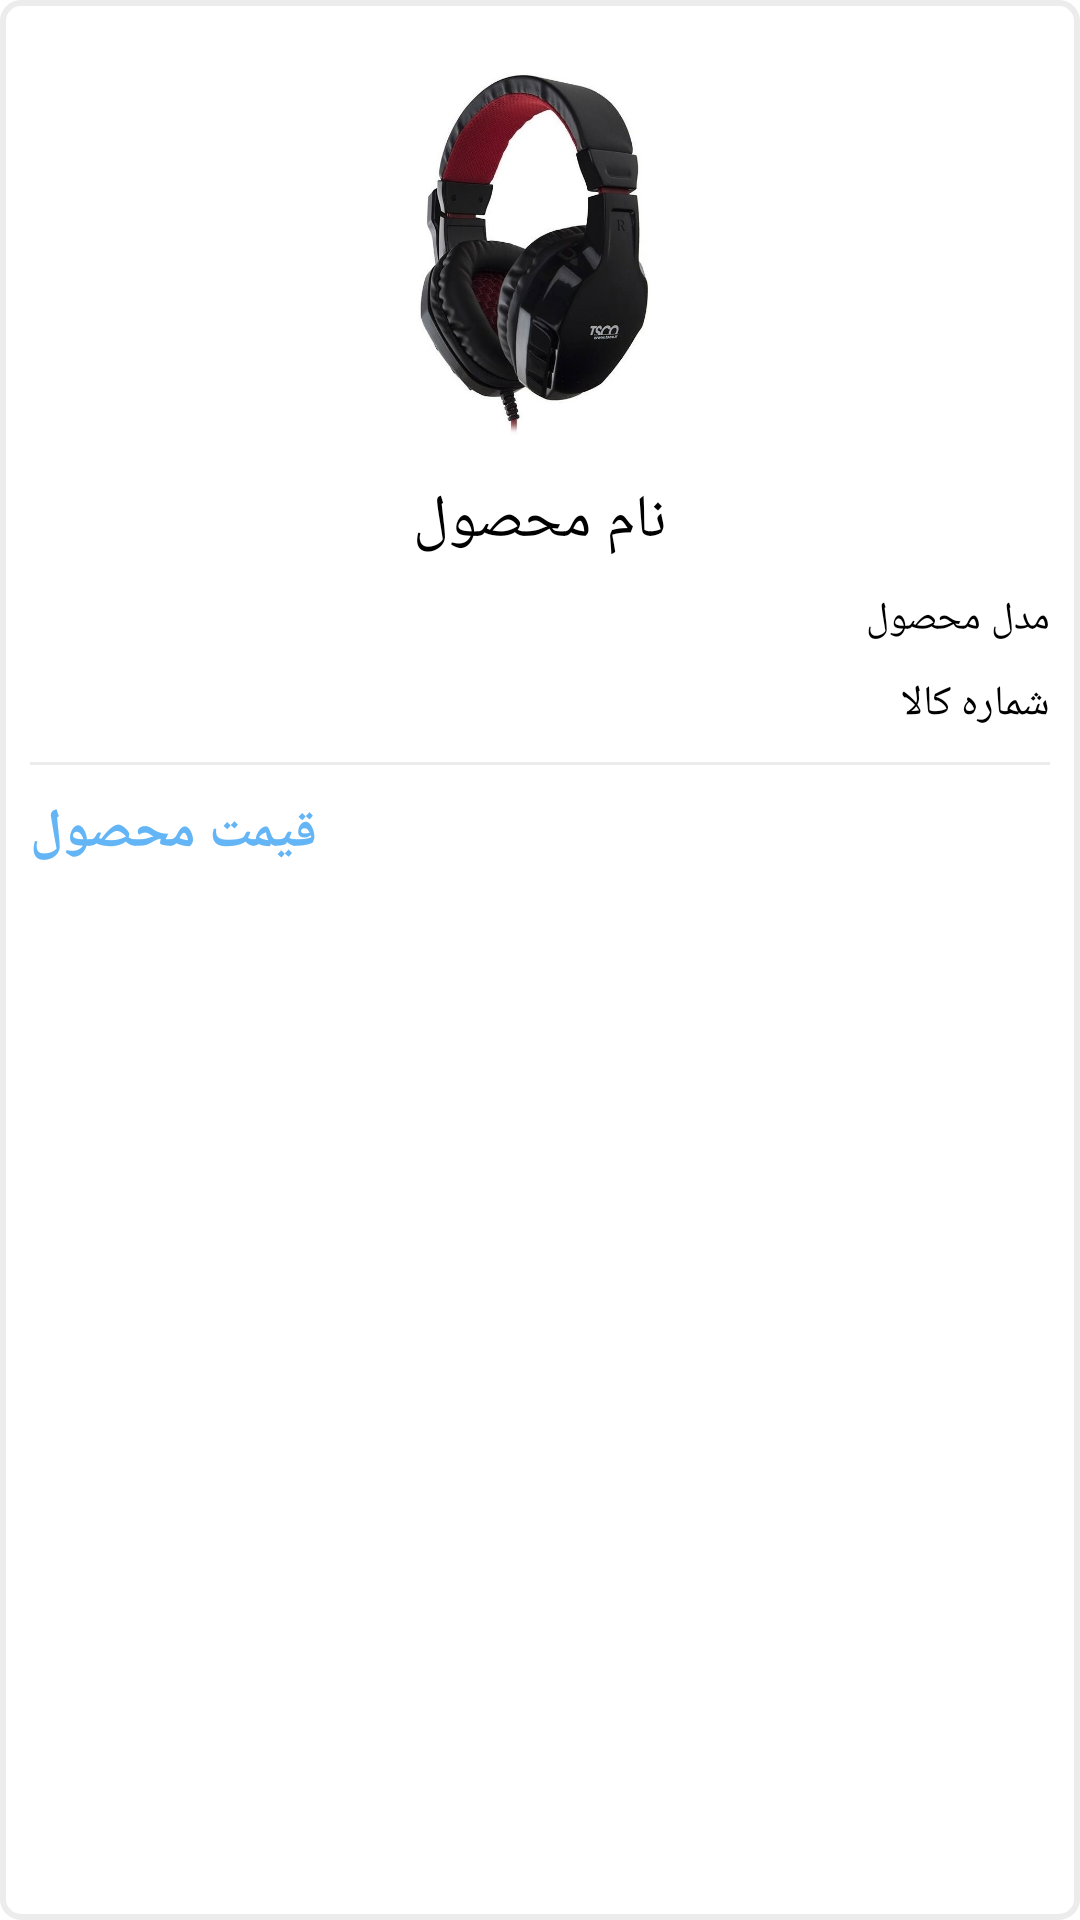

Icons on this 1080×1920 Android screen, each with its box as (x1, y1, x2, y2):
hedfone: (420, 75, 648, 431)
